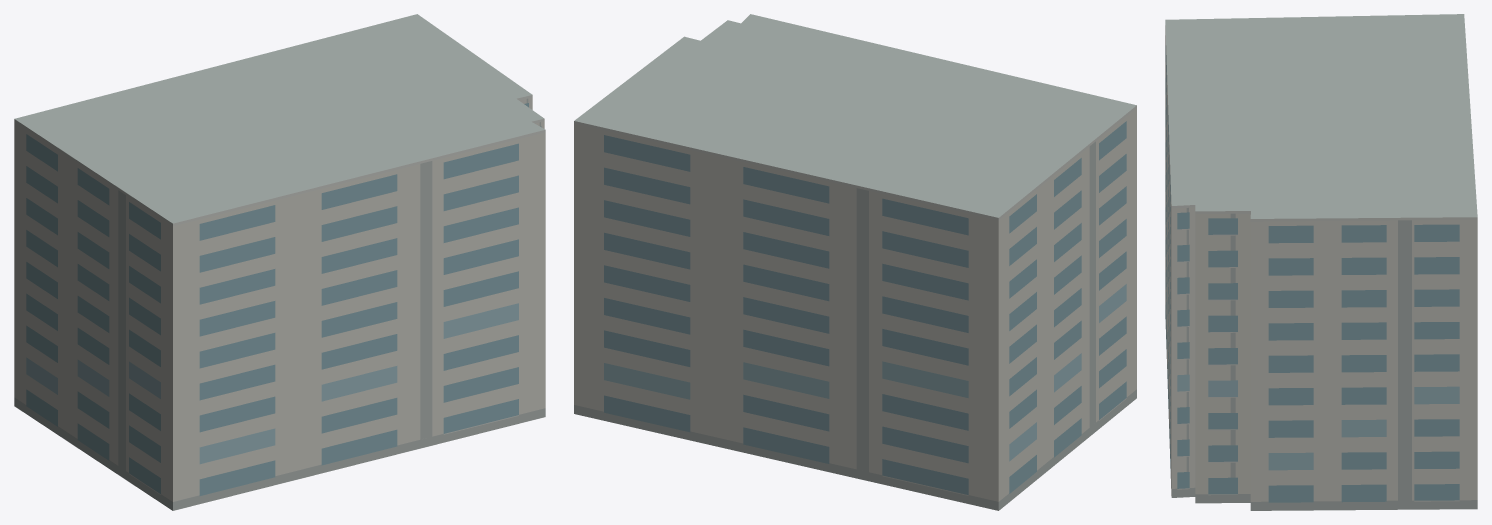
File: survey-upis-32852595.glb
The picture shows the model from 3 angles, left to right: view 1: azimuth 30°, elevation 25°; view 2: azimuth 150°, elevation 25°; view 3: azimuth 270°, elevation 25°; orthographic projection.
Visible parts, largest first — view 1: survey-upis-32852595.tmp; view 2: survey-upis-32852595.tmp; view 3: survey-upis-32852595.tmp.
Part boxes in pixels (x1,y1,x2,y2): survey-upis-32852595.tmp: (14,14,545,510); survey-upis-32852595.tmp: (574,14,1136,510); survey-upis-32852595.tmp: (1165,14,1477,510).
Size of the model in its own units: 41.35 by 27.45 by 26.63.
